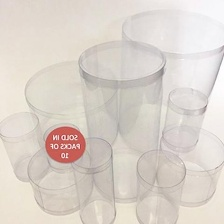plastic_box: (73, 33, 170, 207), (117, 2, 223, 106), (19, 56, 123, 153), (154, 121, 224, 211), (23, 140, 96, 219), (65, 133, 120, 223), (130, 144, 190, 224), (0, 108, 53, 185), (157, 83, 211, 155)
